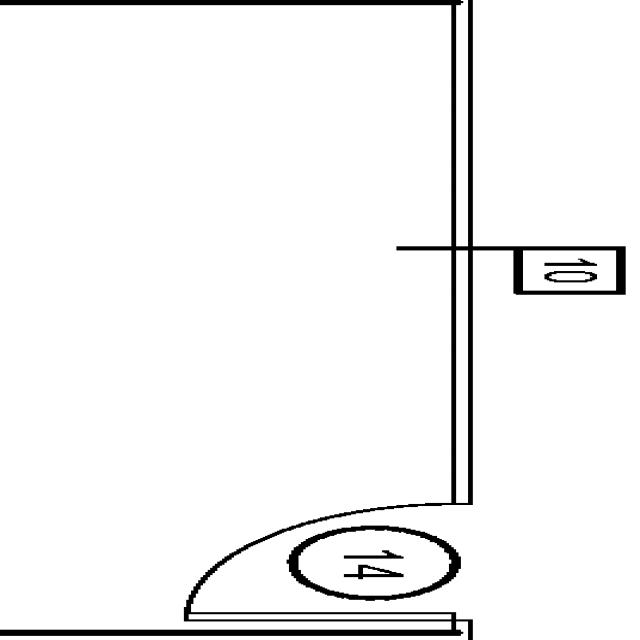Doors: (176, 495, 475, 623)
